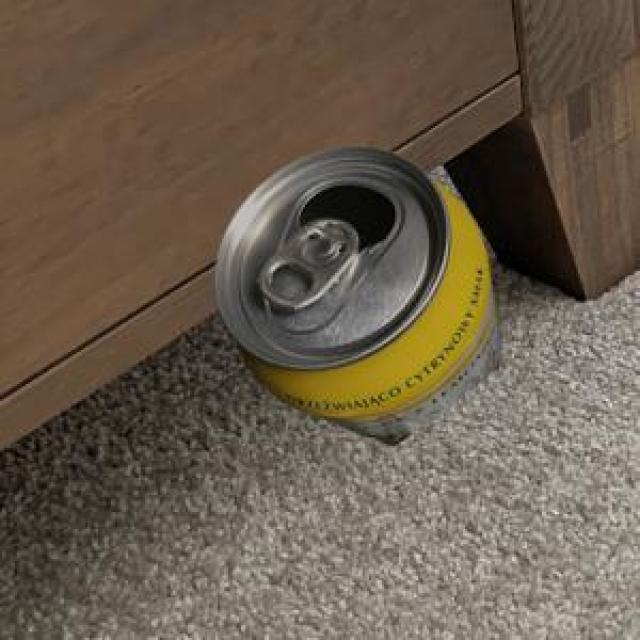logam: (212, 144, 498, 443)
